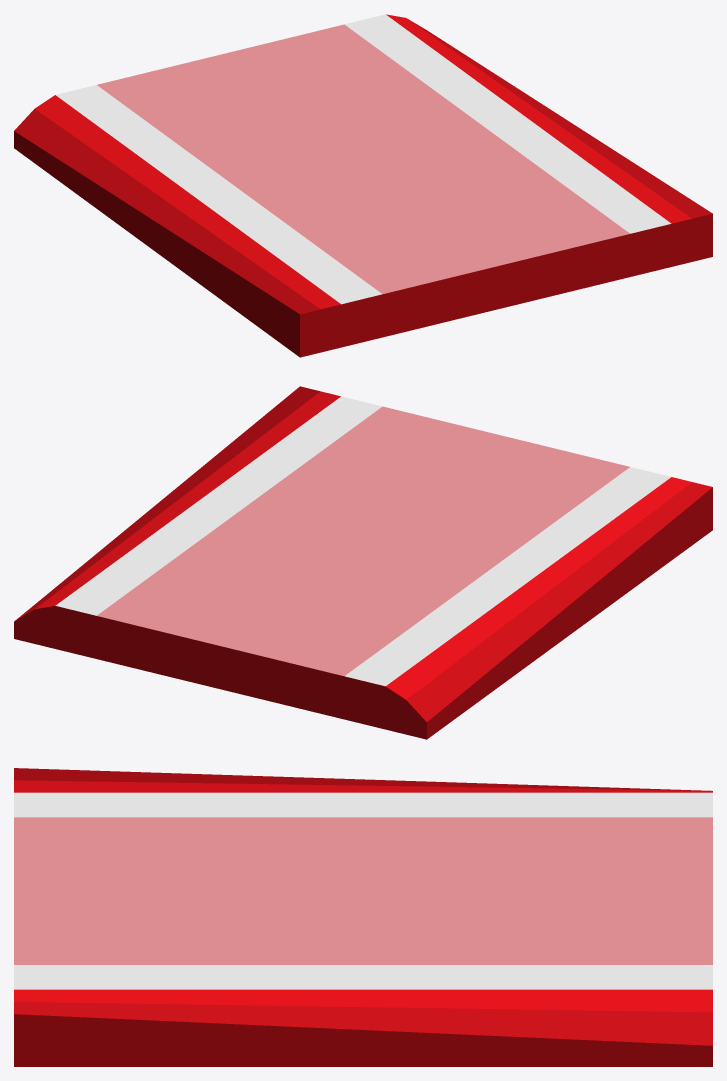
Rendered from trans.fbx.
3 views of the same model, one above another, from view 1: azimuth 30°, elevation 25°; view 2: azimuth 150°, elevation 25°; view 3: azimuth 270°, elevation 25° (orthographic). The views are drawn at different scales.
Visible parts, largest first — view 1: StraightTransition; view 2: StraightTransition; view 3: StraightTransition.
Part boxes in pixels (bbox=[...]): StraightTransition: bbox=[14, 14, 712, 357]; StraightTransition: bbox=[14, 386, 712, 739]; StraightTransition: bbox=[14, 768, 712, 1066].
Size of the model in its own units: 10 by 1 by 12.
